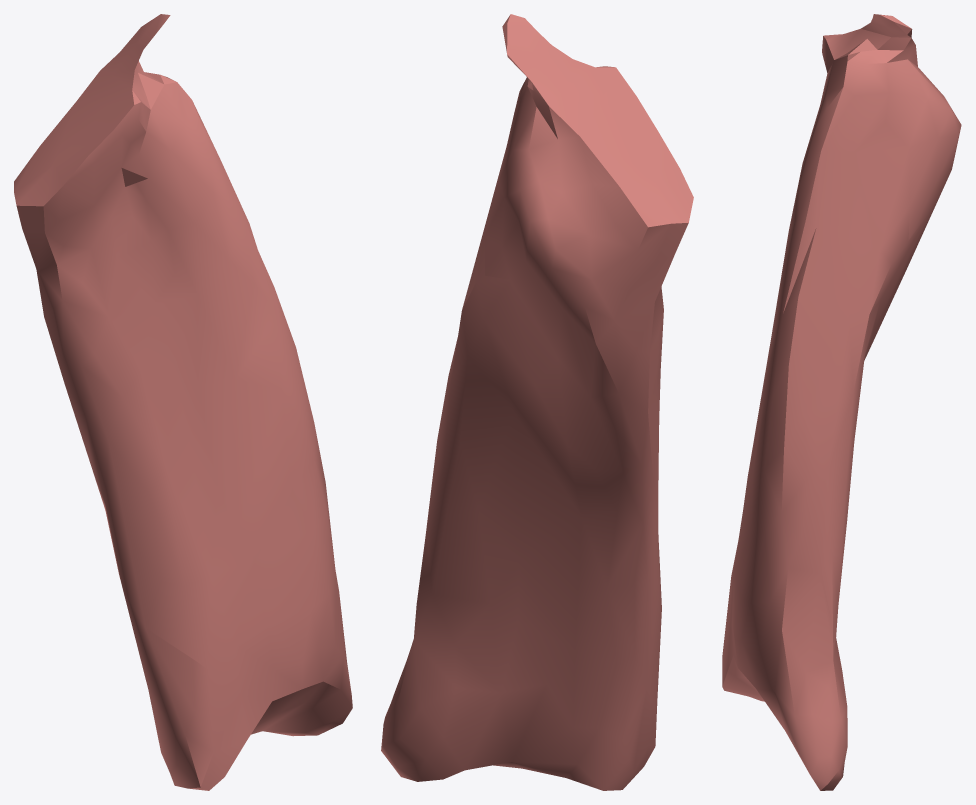
The model's file is fma81541_mm1331m.glb.
3 views of the same model, side by side, from view 1: azimuth 30°, elevation 25°; view 2: azimuth 150°, elevation 25°; view 3: azimuth 270°, elevation 25° (orthographic). The views are drawn at different scales.
Parts seen in each view (by area): view 1: FMA81541_MM1331M; view 2: FMA81541_MM1331M; view 3: FMA81541_MM1331M.
Part boxes in pixels (<box>): FMA81541_MM1331M: <box>14,14,352,790</box>; FMA81541_MM1331M: <box>381,14,693,790</box>; FMA81541_MM1331M: <box>722,14,961,790</box>.
Bounding box in the file's own units: 0.00691 × 0.0159 × 0.00479.
